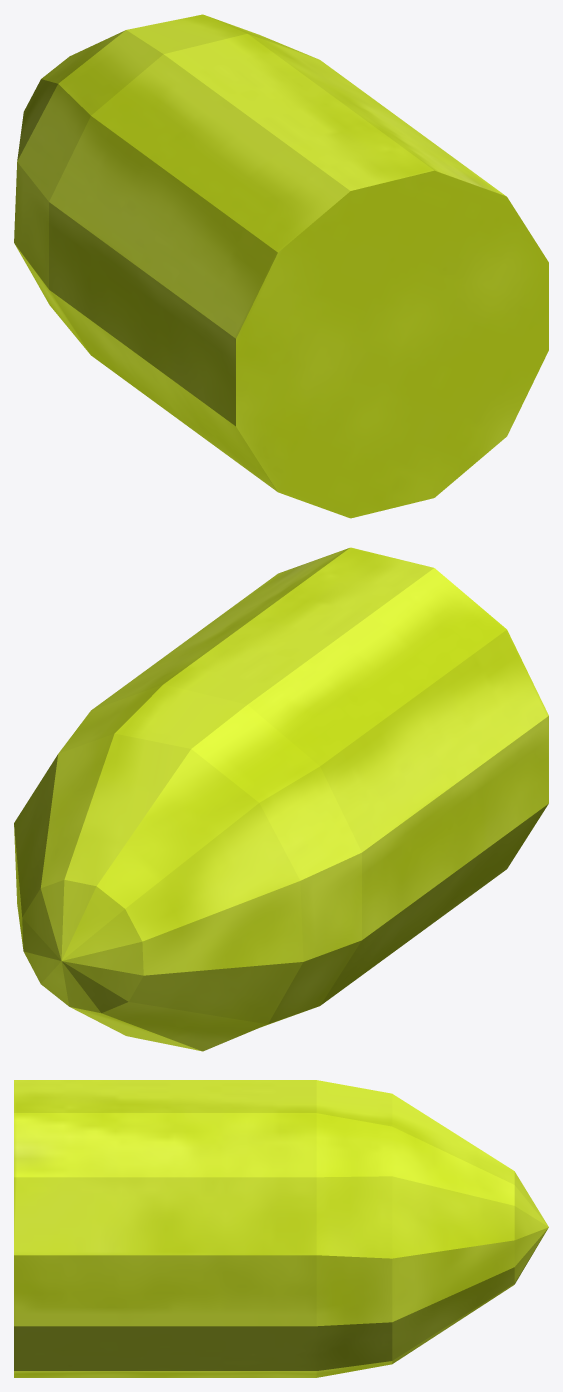
File: bullet.dae
The picture shows the model from 3 angles, top to bottom: view 1: azimuth 30°, elevation 25°; view 2: azimuth 150°, elevation 25°; view 3: azimuth 270°, elevation 25°; orthographic projection. The views are drawn at different scales.
Visible parts, largest first — view 1: Cylinder; view 2: Cylinder; view 3: Cylinder.
Part boxes in pixels (x1,y1,x2,y2): Cylinder: (14, 14, 548, 518); Cylinder: (14, 547, 548, 1051); Cylinder: (14, 1080, 548, 1377).
Bounding box in the file's own units: 0.169 × 0.3094 × 0.169.
